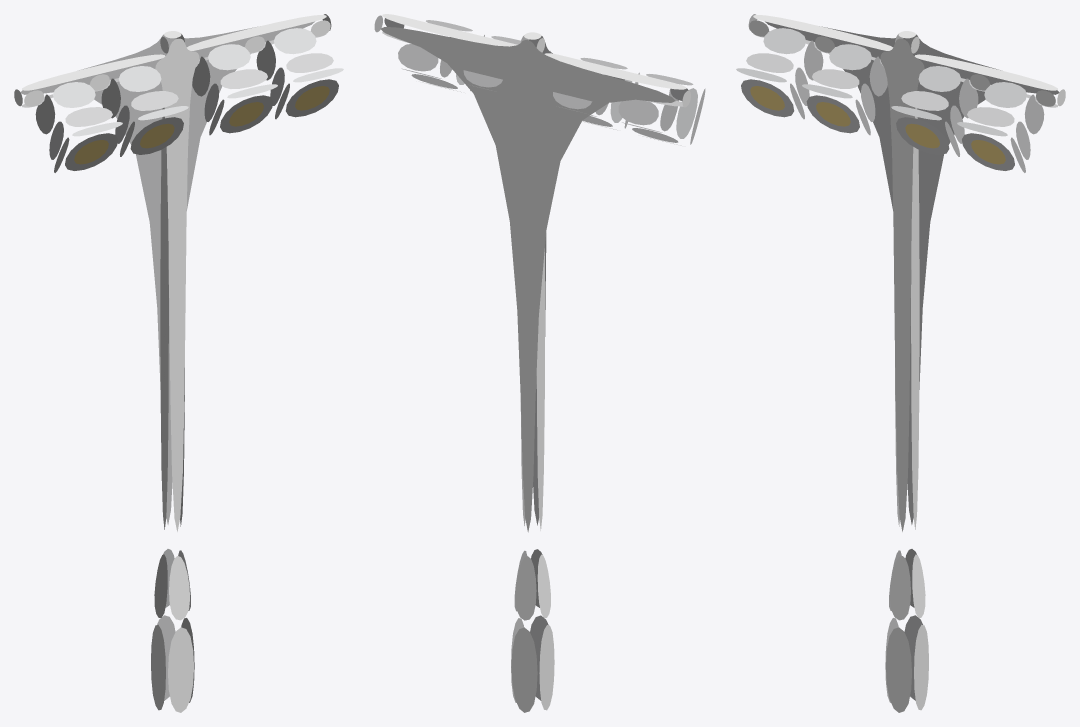
The model's file is light_post.glb.
The picture shows the model from 3 angles, left to right: view 1: azimuth 30°, elevation 25°; view 2: azimuth 150°, elevation 25°; view 3: azimuth 330°, elevation 25°; orthographic projection.
Visible parts, largest first — view 1: light_post; view 2: light_post; view 3: light_post.
Part boxes in pixels (x1,y1,x2,y2): light_post: (14, 14, 343, 712); light_post: (374, 14, 705, 712); light_post: (736, 14, 1065, 712).
Size of the model in its own units: 0.38 by 0.7911 by 0.0967.
